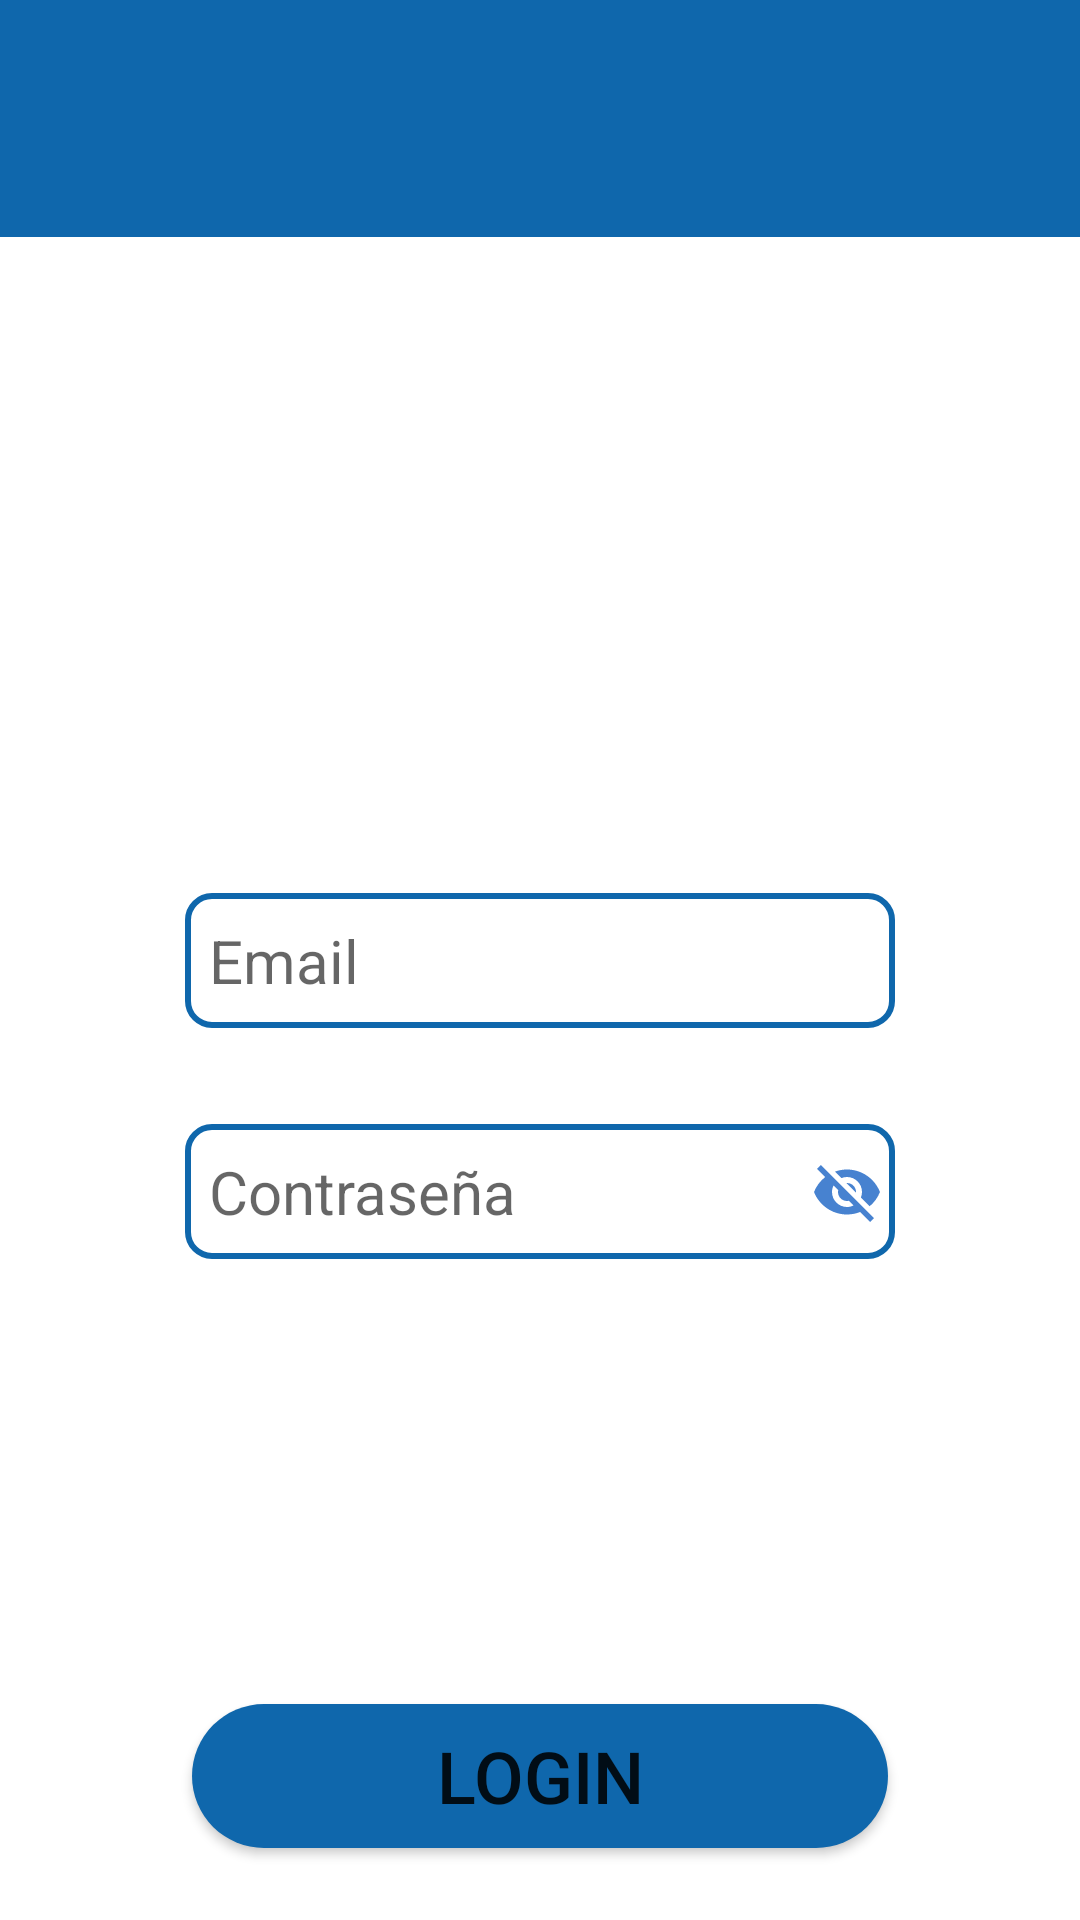

Icon bounding boxes for this 1080*1920 phone screenshot, format [left=x1, top=y1, right=x2, bottom=y2]:
viewoff: [left=814, top=1165, right=880, bottom=1222]
